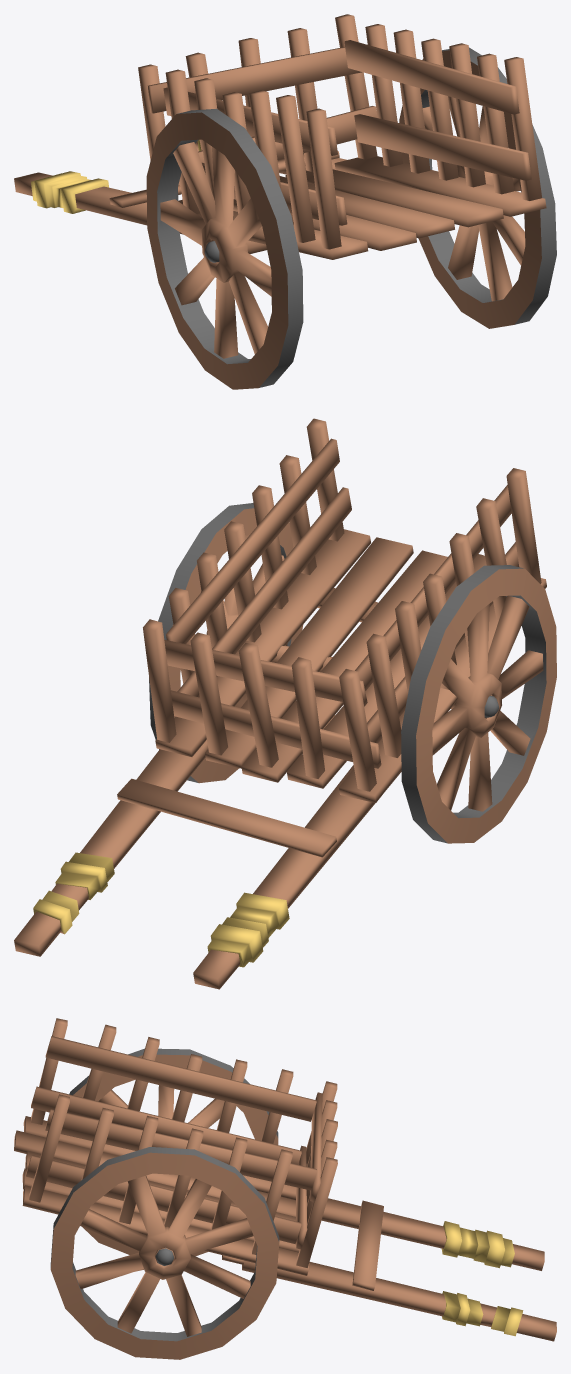
Rendered from medievalCart.glb.
The picture shows the model from 3 angles, top to bottom: view 1: azimuth 30°, elevation 25°; view 2: azimuth 150°, elevation 25°; view 3: azimuth 270°, elevation 25°; orthographic projection. The views are drawn at different scales.
Parts seen in each view (by area): view 1: Cart, Wheel, Axle; view 2: Cart, Wheel; view 3: Cart, Wheel.
Boxes of the visible parts, x1,y1,x2,y2 form: Cart: (14, 14, 546, 259); Wheel: (146, 47, 556, 389); Axle: (204, 240, 266, 263); Cart: (14, 418, 546, 989); Wheel: (149, 503, 556, 843); Cart: (14, 1018, 556, 1341); Wheel: (50, 1048, 279, 1359).
Bounding box in the file's own units: 1.52 × 1.57 × 3.09.
